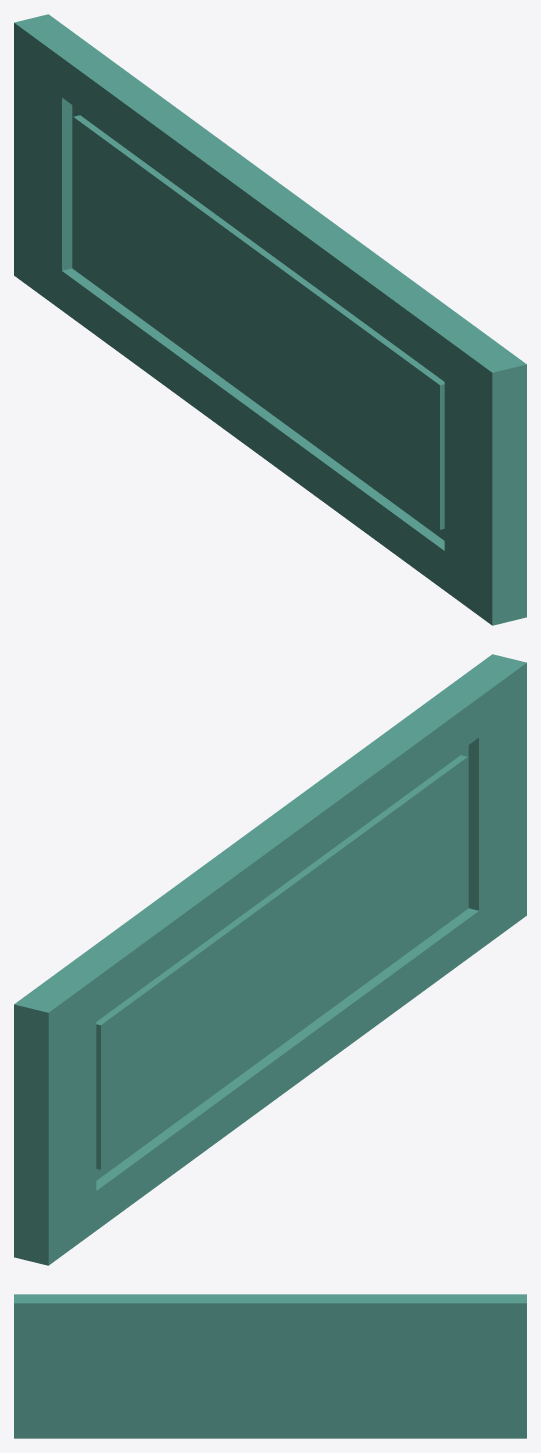
File: placa_corredor.fbx
3 renders of one model, top to bottom at view 1: azimuth 30°, elevation 25°; view 2: azimuth 150°, elevation 25°; view 3: azimuth 270°, elevation 25°, orthographic. The views are drawn at different scales.
Visible parts, largest first — view 1: placa_corredor; view 2: placa_corredor; view 3: placa_corredor.
Boxes of the visible parts, x1,y1,x2,y2 form: placa_corredor: (14, 14, 526, 625); placa_corredor: (14, 654, 526, 1265); placa_corredor: (14, 1294, 526, 1438).
Bounding box in the file's own units: 5 × 35 × 120.
